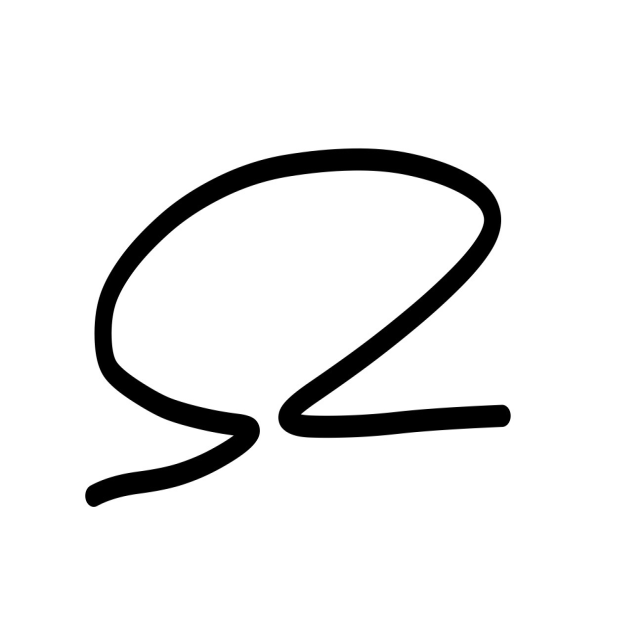ohms: (70, 78, 577, 540)
